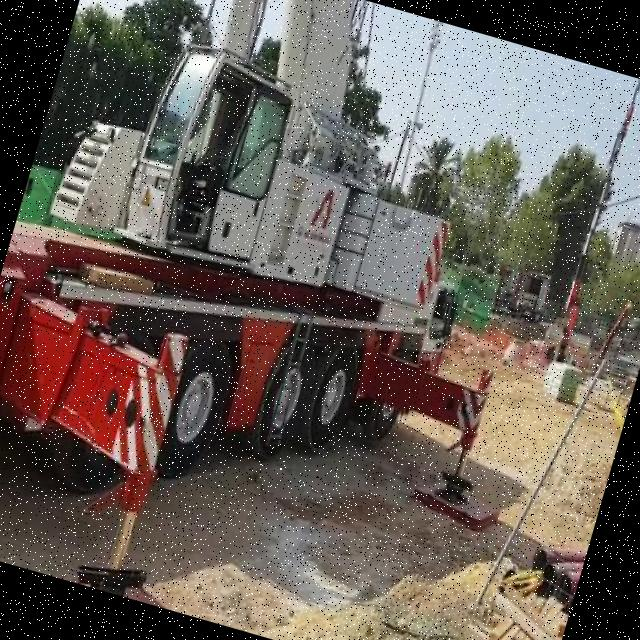Mobile Crane: (0, 0, 587, 640)
